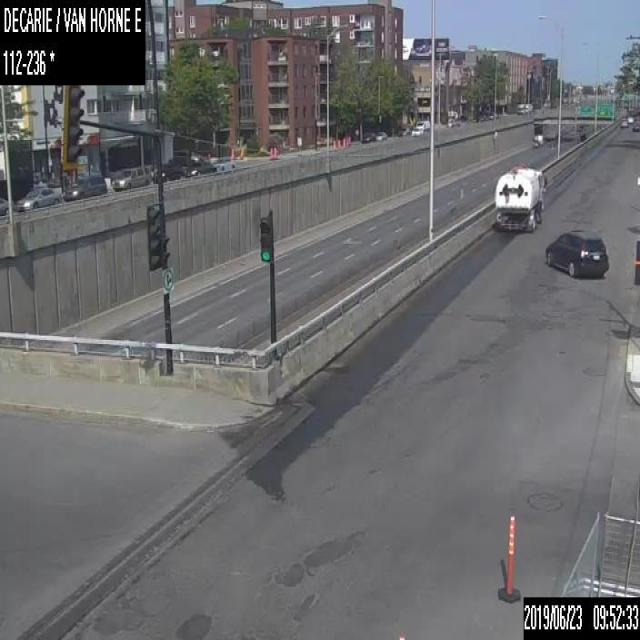construction: (496, 512, 520, 603), (336, 138, 341, 150), (239, 146, 243, 158), (273, 146, 276, 158), (231, 146, 234, 158), (269, 146, 272, 158), (345, 137, 348, 148), (342, 137, 345, 148), (332, 140, 335, 150)
vehicle: (493, 164, 546, 231), (544, 229, 608, 276), (62, 174, 106, 202), (13, 185, 59, 211), (112, 167, 151, 189), (151, 159, 181, 181), (182, 161, 212, 176), (211, 156, 235, 173), (415, 120, 430, 133), (360, 130, 376, 142), (516, 102, 532, 114), (531, 133, 543, 148), (397, 126, 410, 136), (0, 196, 7, 214), (375, 130, 386, 140), (619, 116, 628, 126), (410, 127, 420, 135), (632, 120, 639, 130), (626, 115, 634, 122)
